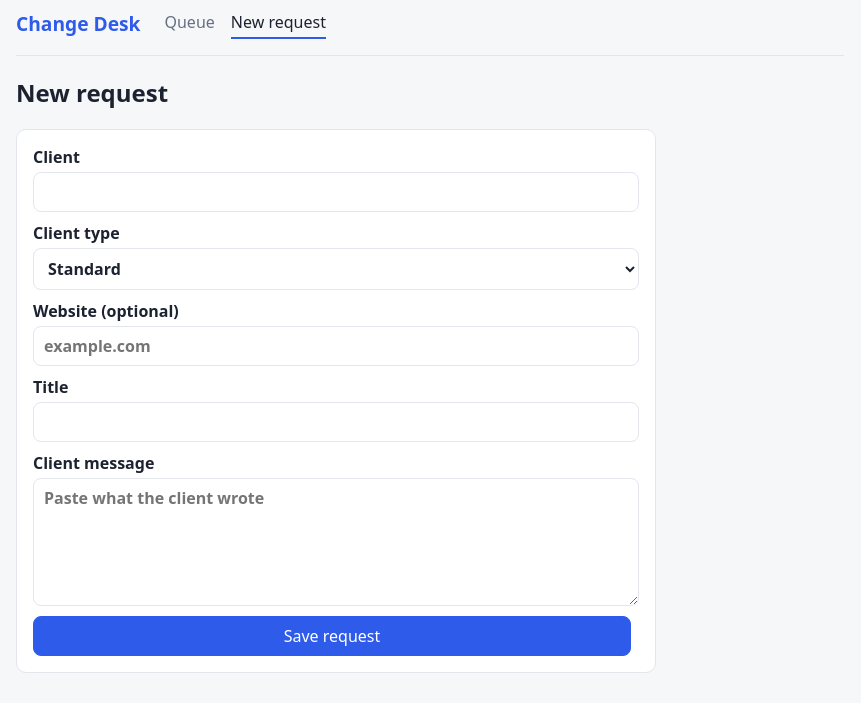
Scenario: New request page › shows errors and saves nothing for an empty form (AC7)
This screenshot has width=861, height=703.
Step 1. Click the button "Save request" → coordinates (332, 636), box [33,616,631,656]
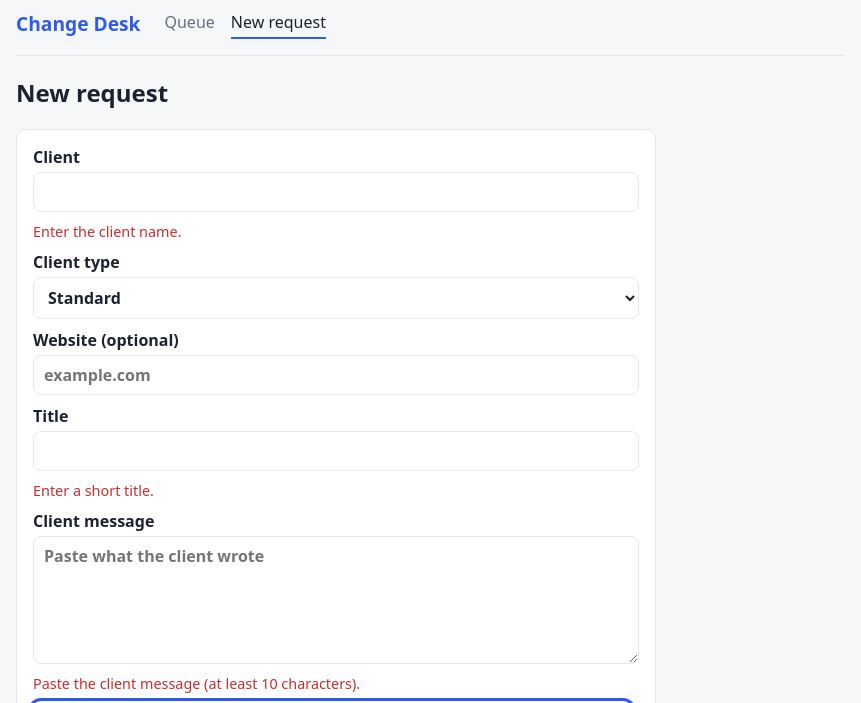
Expected: the text "Enter the client name." is shown, [33,222,182,241]
Expected: the text "Paste the client message (at least 10 characters)." is shown, [33,674,360,693]
